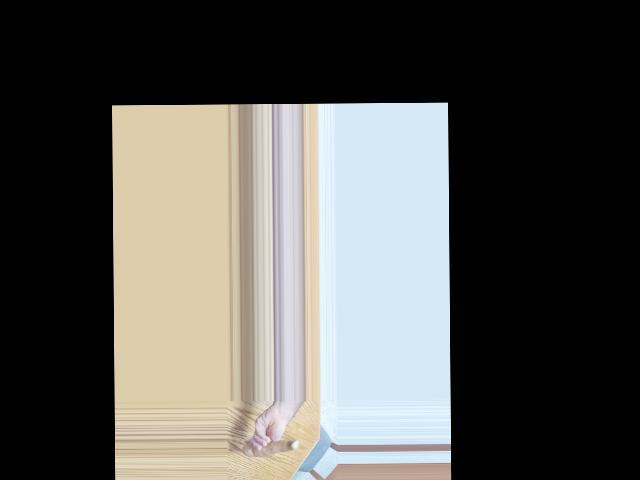sweet_potato: (241, 434, 297, 459)
